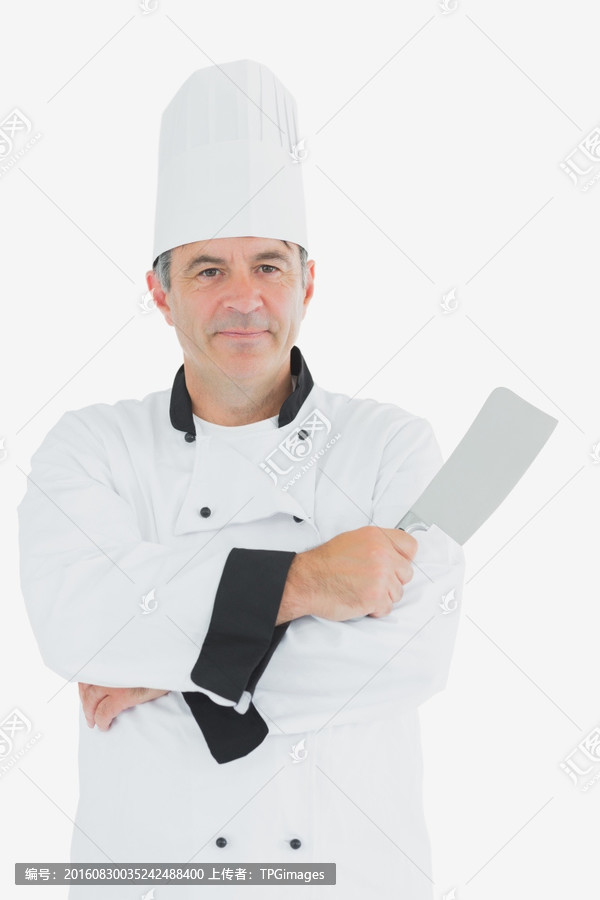knief: (368, 371, 572, 568)
